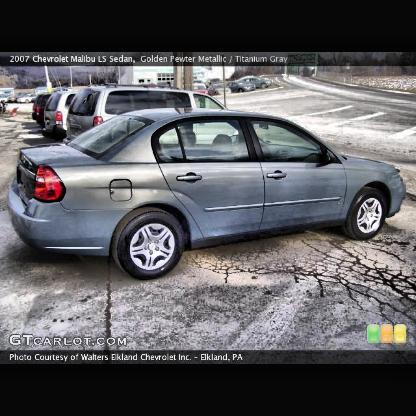Chevrolet Malibu Sedan 2007: (9, 107, 410, 283)
